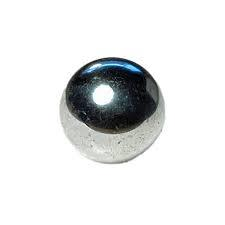steelball: (55, 55, 168, 165)
